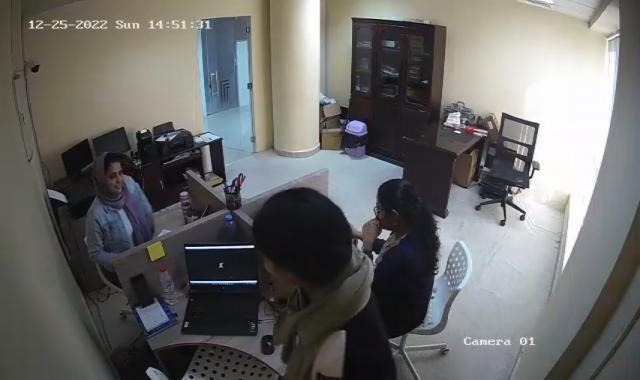no_hairnet: (251, 189, 351, 290), (376, 171, 420, 233), (90, 152, 124, 196)
